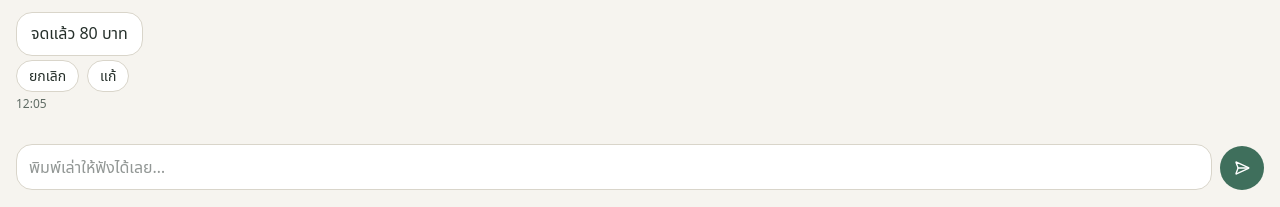
it: แก้ without a previous user message undoes and leaves the composer alone
The width and height of the screenshot is (1280, 207).
Click the button "แก้" at (108, 76), box x1=87 y1=60 x2=130 y2=92
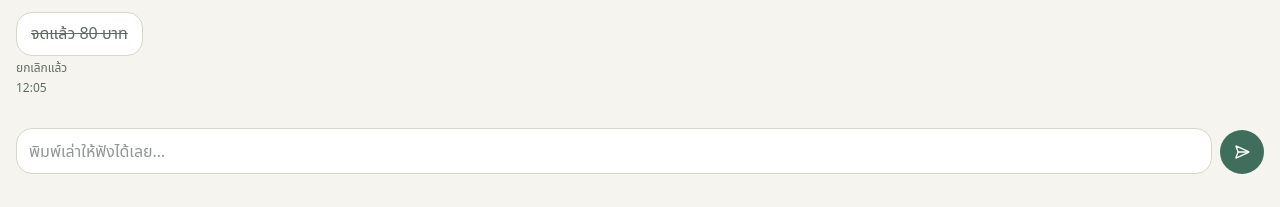
Expected: the text box labelled "พิมพ์เล่าให้ฟังได้เลย…" is empty, x1=16 y1=128 x2=1212 y2=174
Expected: the text "ยกเลิกแล้ว" is shown, x1=16 y1=60 x2=67 y2=76
